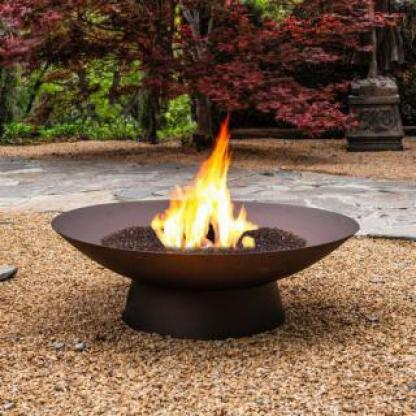Fire: (154, 108, 266, 255)
